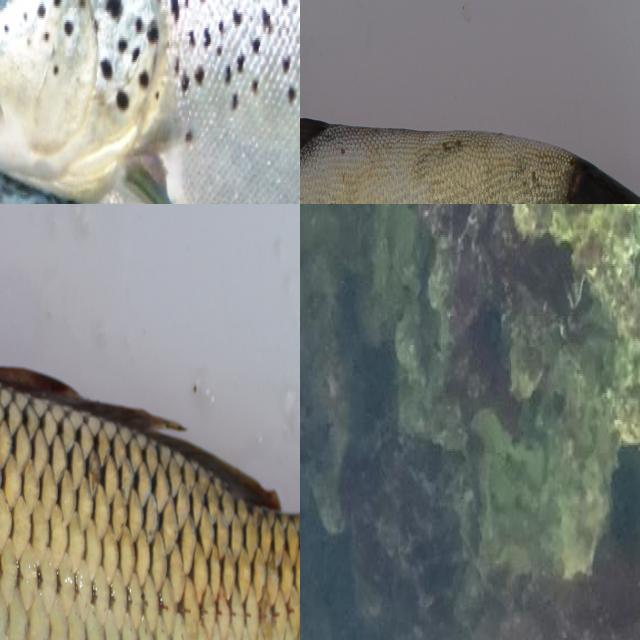fish: (0, 244, 300, 640), (0, 0, 300, 204), (300, 79, 640, 204)
